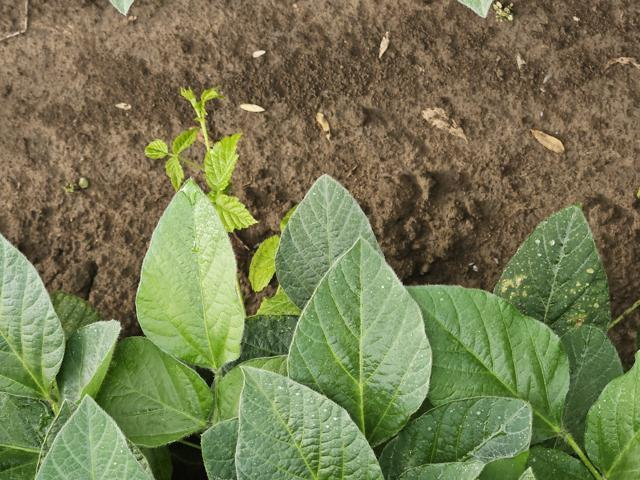bad weed: (134, 80, 304, 318)
